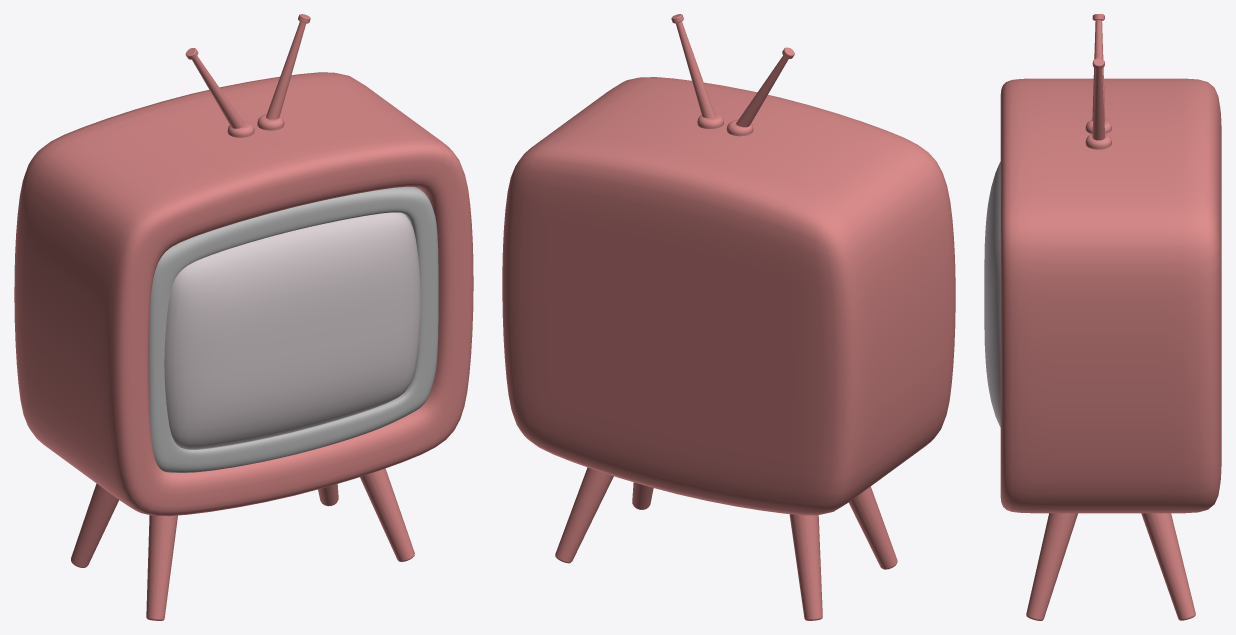
3 views of the same model, side by side, from view 1: azimuth 30°, elevation 25°; view 2: azimuth 150°, elevation 25°; view 3: azimuth 270°, elevation 25° (orthographic). The views are drawn at different scales.
Visible parts, largest first — view 1: tv-box, screen, Cube, Cylinder 2 (×3), Cylinder, Cylinder 3; view 2: tv-box, Cylinder 3 (×2), Cylinder 2 (×2), Cylinder; view 3: tv-box, Cylinder 2 (×3), screen, Cylinder 3.
Boxes of the visible parts, bbox=[...] form: tv-box: bbox=[14, 72, 473, 516]; screen: bbox=[164, 212, 420, 449]; Cube: bbox=[148, 186, 438, 472]; Cylinder 2 (×3): bbox=[192, 22, 414, 561]; Cylinder: bbox=[146, 515, 177, 620]; Cylinder 3: bbox=[71, 483, 118, 567]; tv-box: bbox=[502, 77, 955, 515]; Cylinder 3 (×2): bbox=[555, 467, 822, 620]; Cylinder 2 (×2): bbox=[676, 21, 788, 127]; Cylinder: bbox=[848, 486, 897, 569]; tv-box: bbox=[1000, 78, 1221, 513]; Cylinder 2 (×3): bbox=[1026, 20, 1105, 620]; screen: bbox=[984, 162, 1000, 427]; Cylinder 3: bbox=[1141, 513, 1195, 620].
Bounding box in the file's own units: 1.02 × 1.45 × 0.589.
